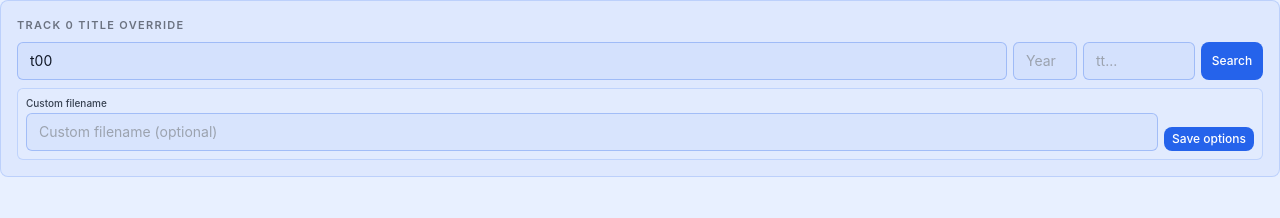
Test: TrackTitleSearch › interactions › shows no results message
What coordinates should you click on to do the following:
click the button "Search"
I would click on:
 (1232, 60)
Its box is left=1201, top=42, right=1263, bottom=80.
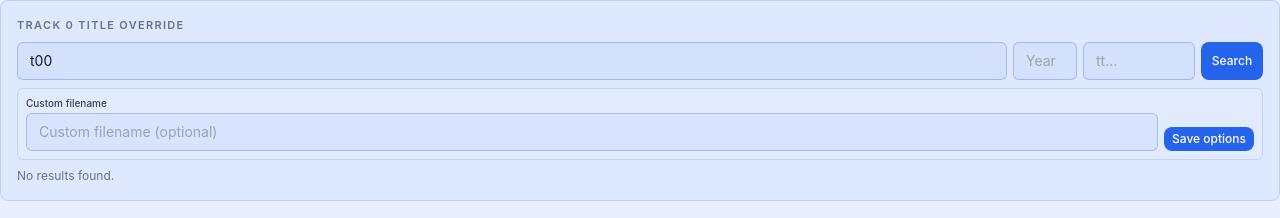
Now the text "No results found." is shown, box left=17, top=168, right=114, bottom=184
